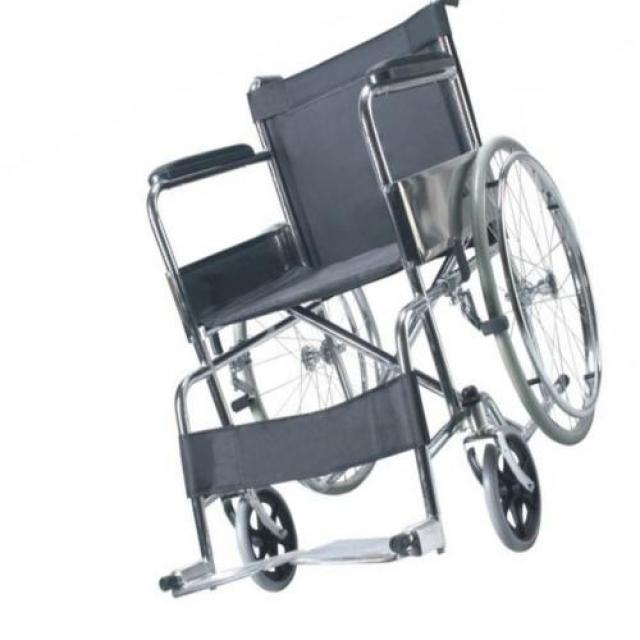wheelchair: (119, 0, 612, 609)
